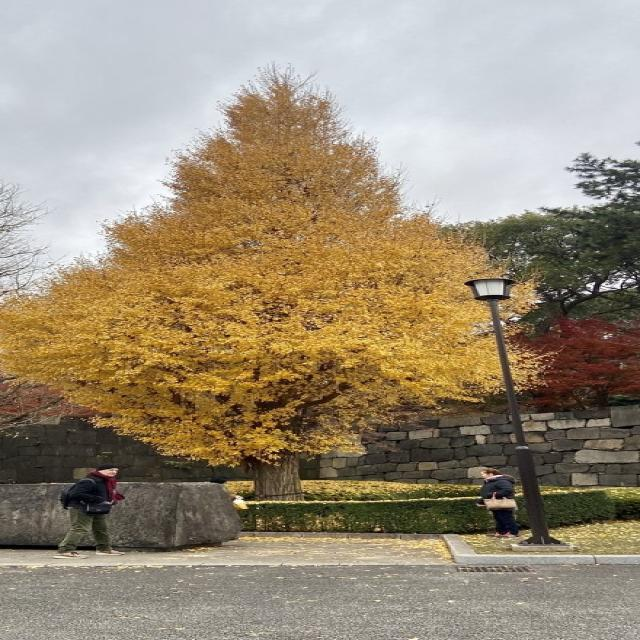ginkgo: (0, 60, 559, 502)
